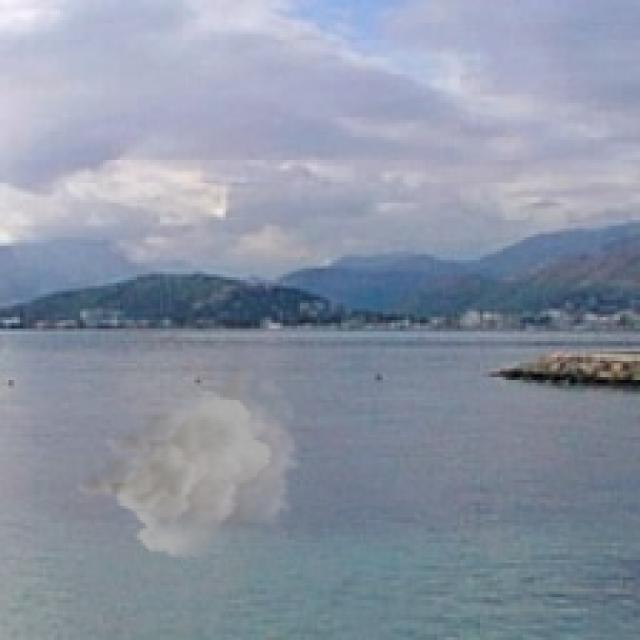Smoke: (71, 363, 303, 563)
